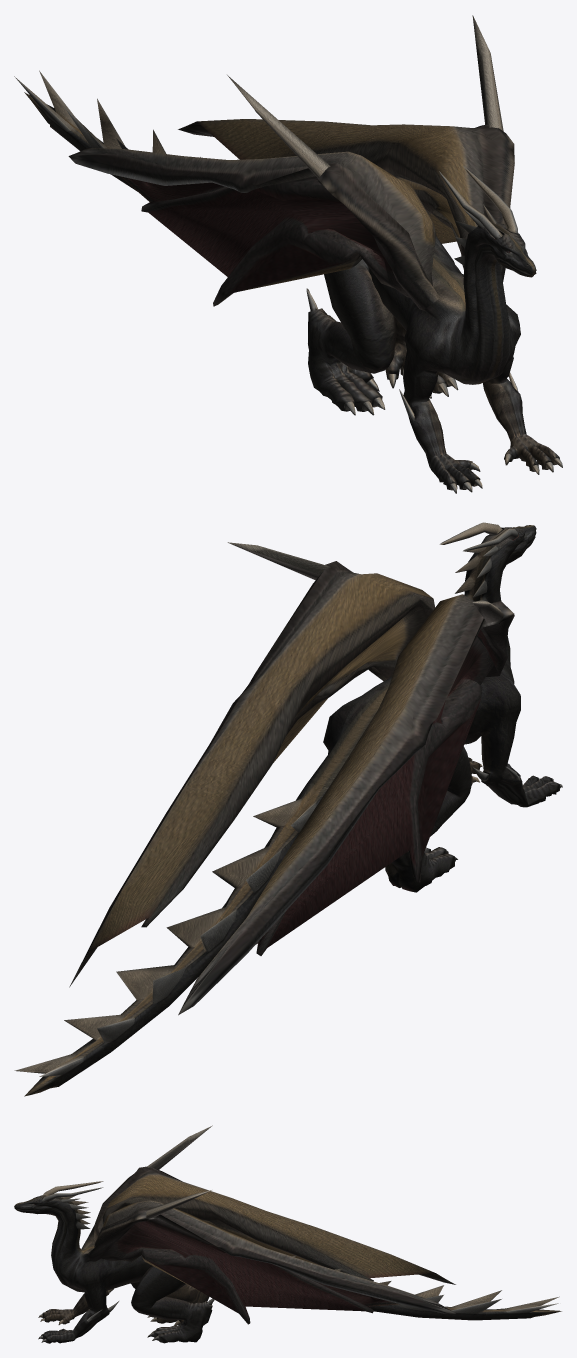
Rendered from dragon.obj.
3 renders of one model, top to bottom at view 1: azimuth 30°, elevation 25°; view 2: azimuth 150°, elevation 25°; view 3: azimuth 270°, elevation 25°, orthographic. The views are drawn at different scales.
Visible parts, largest first — view 1: 3DSMesh_1_1; view 2: 3DSMesh_1_1; view 3: 3DSMesh_1_1.
Boxes of the visible parts, x1,y1,x2,y2 form: 3DSMesh_1_1: [14, 15, 562, 493]; 3DSMesh_1_1: [14, 522, 562, 1096]; 3DSMesh_1_1: [14, 1125, 561, 1343].
Bounding box in the file's own units: 4.72 × 5.91 × 17.
Materials: 1 (1 with a texture image).
